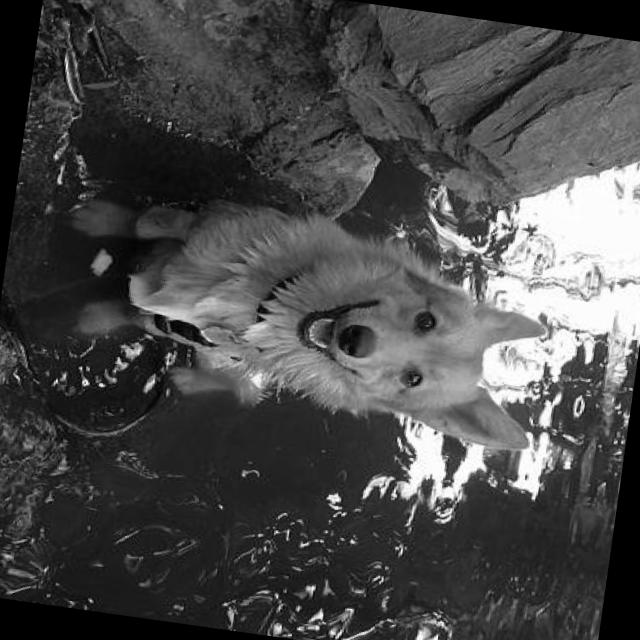sitting: (33, 174, 566, 468)
